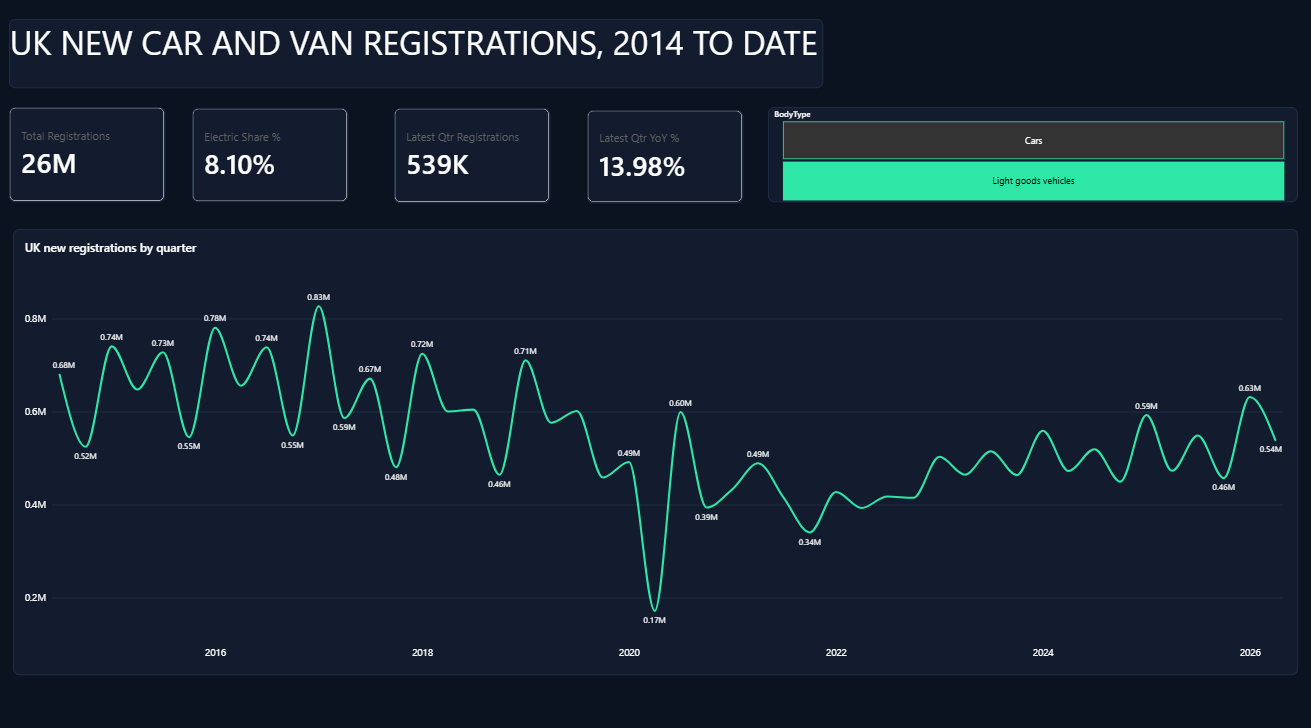

The page's visual inventory and layout, read from the dashboard file:
{"tool":"powerbi","page":{"name":"UK new car market at a glance","canvas":[1920,1080],"ordinal":0},"visuals":[{"type":"textbox","box":[16,30.6,1187.6,100.7],"z":0},{"type":"cardVisual","fields":{"Data":["df_VEH0160_UK.Total Registrations"]},"box":[16,159,227.6,138.6],"z":1000},{"type":"cardVisual","fields":{"Data":["df_VEH0160_UK.Electric Share %"]},"box":[283,160.5,227.6,137.1],"z":2000},{"type":"cardVisual","fields":{"Data":["df_VEH0160_UK.Latest Qtr YoY %"]},"box":[859.3,163.4,227.6,135.7],"z":3000},{"type":"cardVisual","fields":{"Data":["df_VEH0160_UK.Latest Qtr Registrations"]},"box":[577.8,160.5,227.6,138.6],"z":4000},{"type":"lineChart","title":"UK new registrations by quarter","fields":{"Category":["Date.Date.Variation.Date Hierarchy.Year","Date.Date.Variation.Date Hierarchy.Quarter","Date.Date.Variation.Date Hierarchy.Month","Date.Date.Variation.Date Hierarchy.Day"],"Y":["df_VEH0160_UK.Total Registrations"]},"box":[21.9,337,1874.8,650.7],"z":5000},{"type":"slicer","fields":{"Values":["df_VEH0160_UK.BodyType"]},"box":[1123.4,159,773.3,138.6],"z":6000}]}

Visuals, with their boxes in screenshot pixels (x1, y1, x2, y2), scaled from the page's 1920x1080 canvas onto the 1311x728 screenshot:
textbox: Rect(11, 21, 822, 89)
cardVisual - df_VEH0160_UK.Total Registrations: Rect(11, 107, 166, 201)
cardVisual - df_VEH0160_UK.Electric Share %: Rect(193, 108, 349, 201)
cardVisual - df_VEH0160_UK.Latest Qtr YoY %: Rect(587, 110, 742, 202)
cardVisual - df_VEH0160_UK.Latest Qtr Registrations: Rect(395, 108, 550, 202)
"UK new registrations by quarter" lineChart: Rect(15, 227, 1295, 666)
slicer - df_VEH0160_UK.BodyType: Rect(767, 107, 1295, 201)
